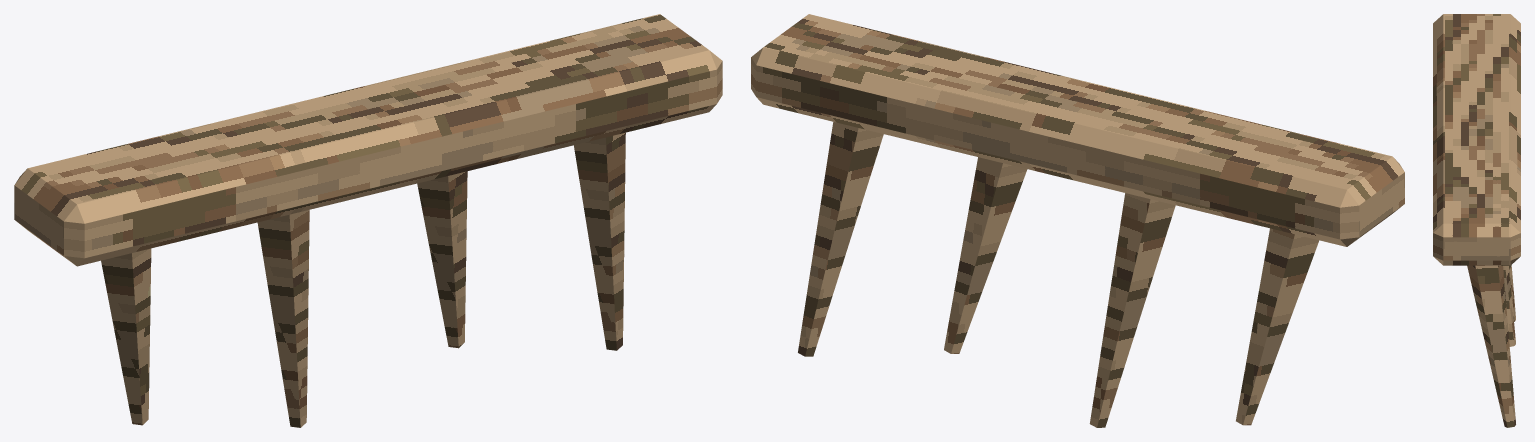
Rendered from beira_reta.glb.
3 views of the same model, side by side, from view 1: azimuth 30°, elevation 25°; view 2: azimuth 150°, elevation 25°; view 3: azimuth 270°, elevation 25° (orthographic). The views are drawn at different scales.
Parts seen in each view (by area): view 1: deserto_beira_reta; view 2: deserto_beira_reta; view 3: deserto_beira_reta.
Boxes of the visible parts, <box> form: deserto_beira_reta: <box>14,14,722,427</box>; deserto_beira_reta: <box>751,14,1404,427</box>; deserto_beira_reta: <box>1433,14,1520,427</box>.
Bounding box in the file's own units: 1 × 0.4671 × 0.17.
Materials: 1 (1 with a texture image).
